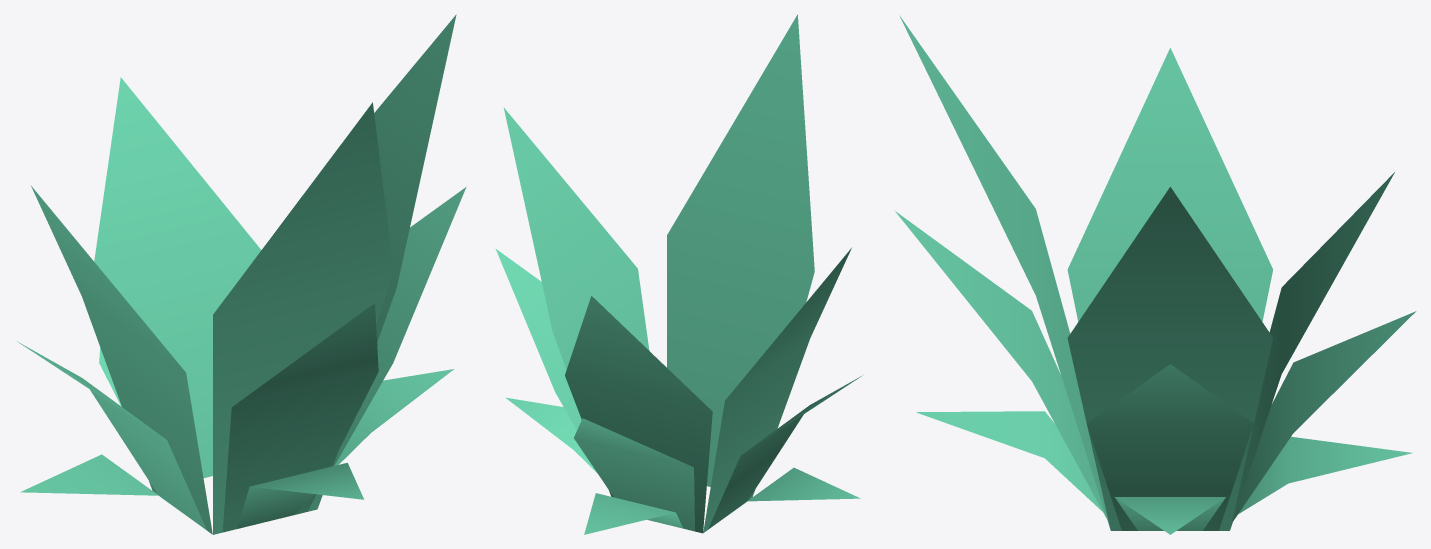
The model's file is grass.glb.
3 views of the same model, side by side, from view 1: azimuth 30°, elevation 25°; view 2: azimuth 150°, elevation 25°; view 3: azimuth 270°, elevation 25° (orthographic). The views are drawn at different scales.
Visible parts, largest first — view 1: pineapple; view 2: pineapple; view 3: pineapple.
Part boxes in pixels (box(x1,y1,x2,y2)): pineapple: box(17, 14, 466, 534); pineapple: box(495, 14, 862, 534); pineapple: box(894, 15, 1416, 534).
Bounding box in the file's own units: 0.2412 × 0.2542 × 0.2448.
